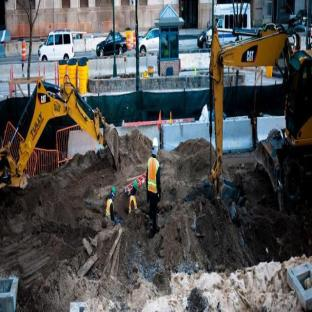ExcavationMachinery: (197, 34, 312, 210), (0, 57, 127, 203)
